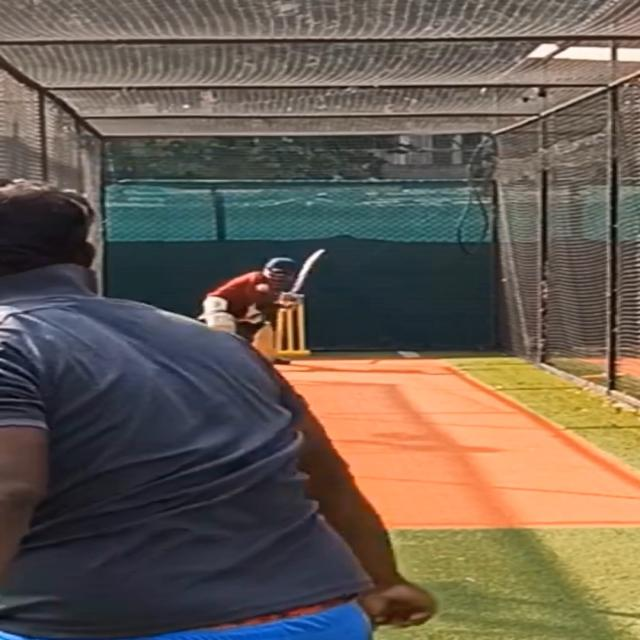ball: (250, 282, 272, 294)
stump: (269, 302, 314, 360)
